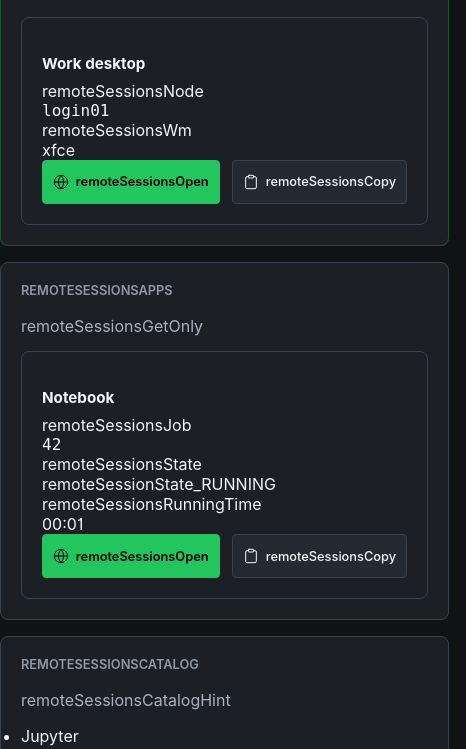
Remote sessions › copies via main only and displays a credential/clipboard warning without a returned secret
(page scrolled)
Click the button with aria-label "remoteSessionsCopy — Notebook".
click(320, 556)  # box [232,534,408,578]
(page scrolled)
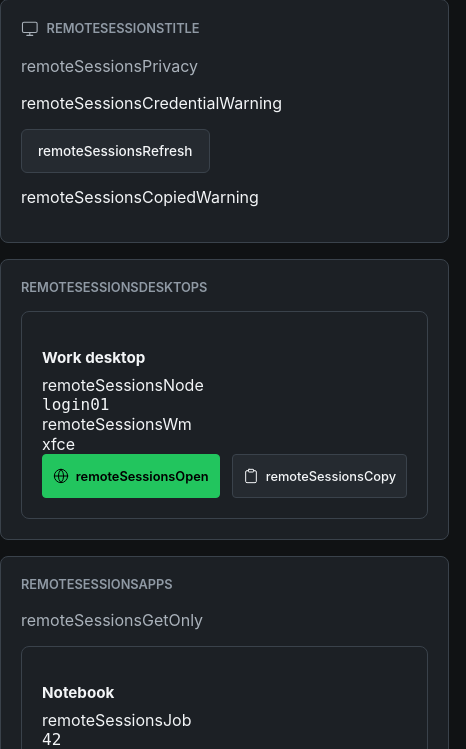
expect the text "remoteSessionsCopiedWarning" is shown: met, box [21,187,259,207]
